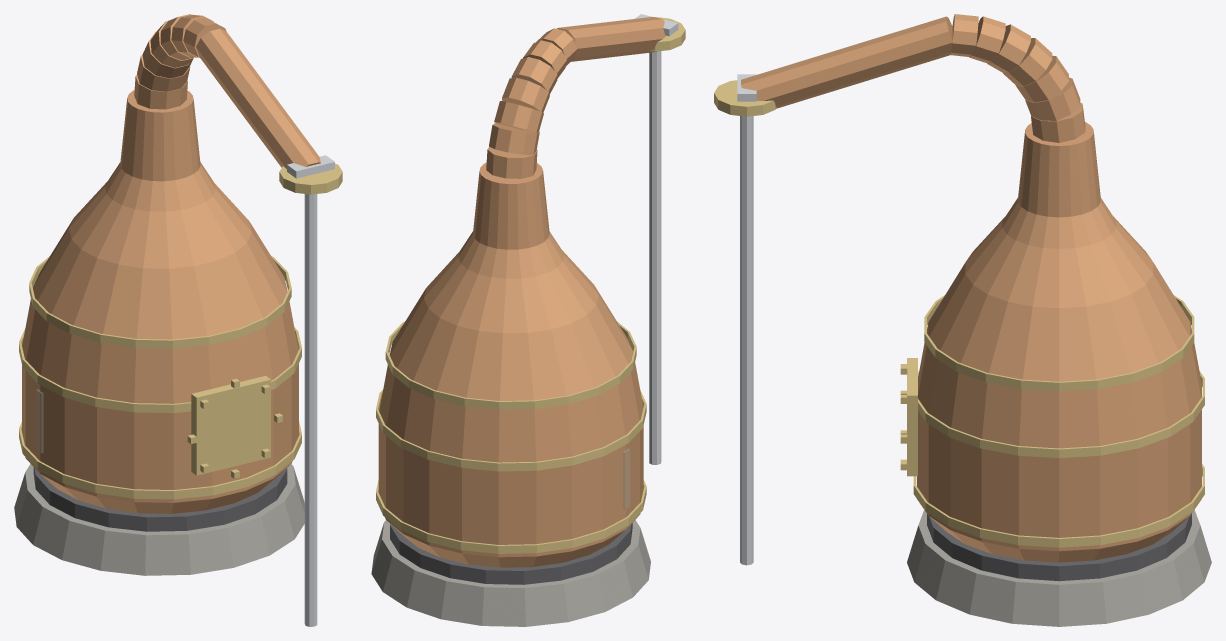
Rendered from distillery-and-bonded-warehouse-wash-still-12b91edc__38658.glb.
The picture shows the model from 3 angles, left to right: view 1: azimuth 30°, elevation 25°; view 2: azimuth 150°, elevation 25°; view 3: azimuth 270°, elevation 25°; orthographic projection. The views are drawn at different scales.
Visible parts, largest first — view 1: wash-still-copper, wash-still-brass, wash-still-stone, wash-still-steel, wash-still-iron, wash-still-glass; view 2: wash-still-copper, wash-still-stone, wash-still-brass, wash-still-steel, wash-still-iron; view 3: wash-still-copper, wash-still-stone, wash-still-brass, wash-still-steel, wash-still-iron.
Boxes of the visible parts, bbox=[...] form: wash-still-copper: bbox=[22, 14, 320, 513]; wash-still-brass: bbox=[19, 163, 342, 499]; wash-still-stone: bbox=[14, 464, 304, 575]; wash-still-steel: bbox=[287, 155, 334, 626]; wash-still-iron: bbox=[33, 467, 287, 531]; wash-still-glass: bbox=[36, 389, 43, 452]; wash-still-copper: bbox=[378, 17, 665, 567]; wash-still-stone: bbox=[371, 520, 650, 626]; wash-still-brass: bbox=[376, 17, 685, 553]; wash-still-steel: bbox=[634, 14, 678, 464]; wash-still-iron: bbox=[390, 523, 632, 584]; wash-still-copper: bbox=[741, 14, 1201, 562]; wash-still-stone: bbox=[907, 510, 1211, 626]; wash-still-brass: bbox=[714, 80, 1204, 547]; wash-still-steel: bbox=[737, 74, 756, 565]; wash-still-iron: bbox=[927, 514, 1191, 581].
Size of the model in its own units: 2.23 by 4.39 by 3.63.
Materials: 6 (1 with a texture image).
